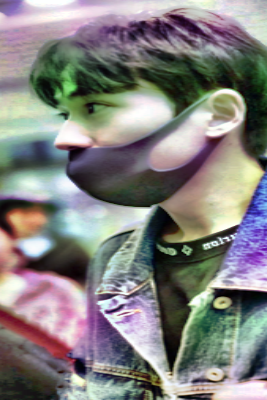mask_weared_incorrect: (53, 97, 210, 207)
